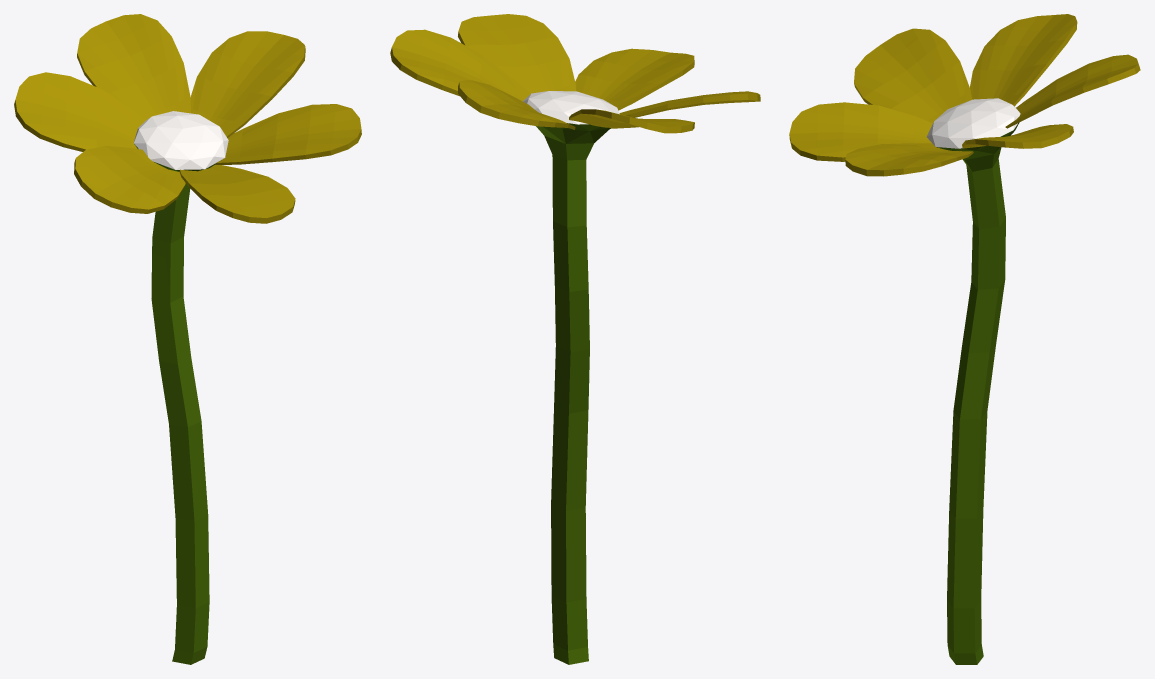
Rendered from flower_yellow.fbx.
The picture shows the model from 3 angles, left to right: view 1: azimuth 30°, elevation 25°; view 2: azimuth 150°, elevation 25°; view 3: azimuth 270°, elevation 25°; orthographic projection. The views are drawn at different scales.
Visible parts, largest first — view 1: Flower Yellow; view 2: Flower Yellow; view 3: Flower Yellow.
Boxes of the visible parts, left/top/right/bottom form: Flower Yellow: left=14, top=14, right=361, bottom=664; Flower Yellow: left=390, top=14, right=760, bottom=664; Flower Yellow: left=789, top=14, right=1140, bottom=664.
Size of the model in its own units: 28.07 by 55.98 by 29.63.
